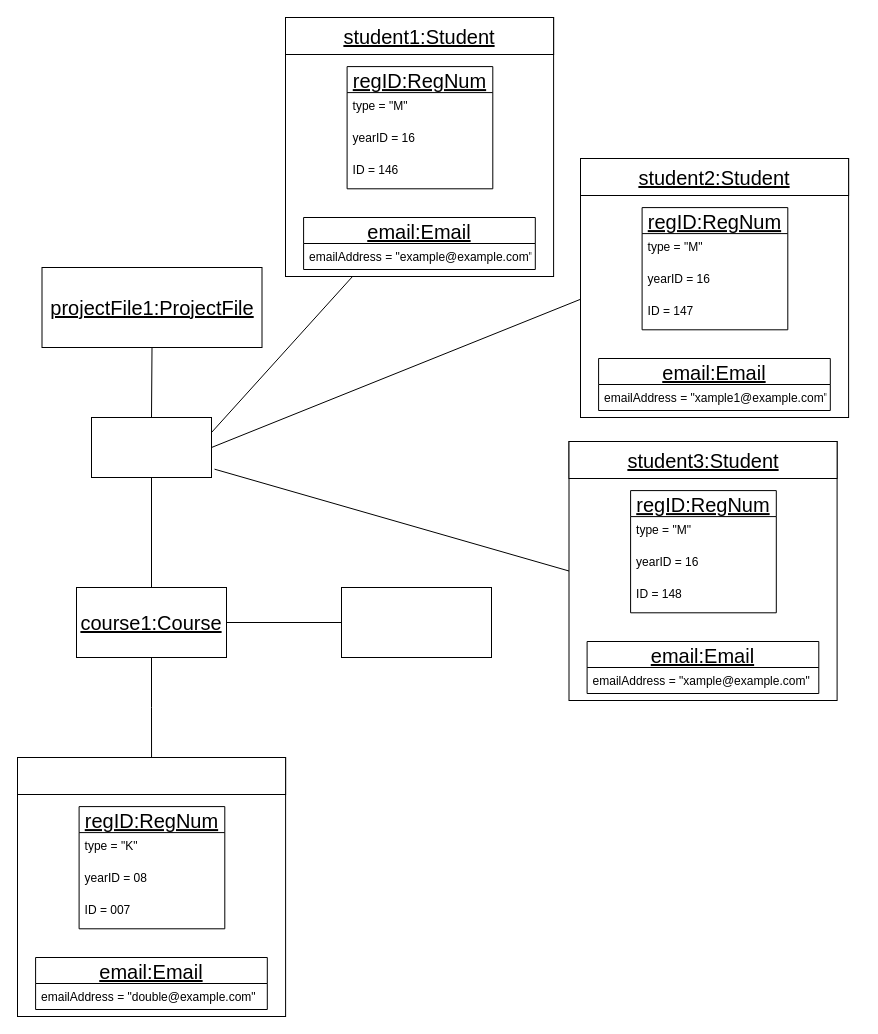
This 878x1034 diagram has some shape labels left out. Each missing label, with the box of its shape:
prof1:Professor: (16, 756, 286, 794)
project1:Project: (340, 586, 492, 658)
team1:Team: (90, 416, 212, 478)
